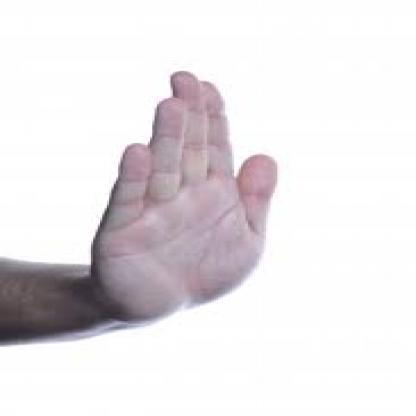stop: (87, 64, 284, 324)
